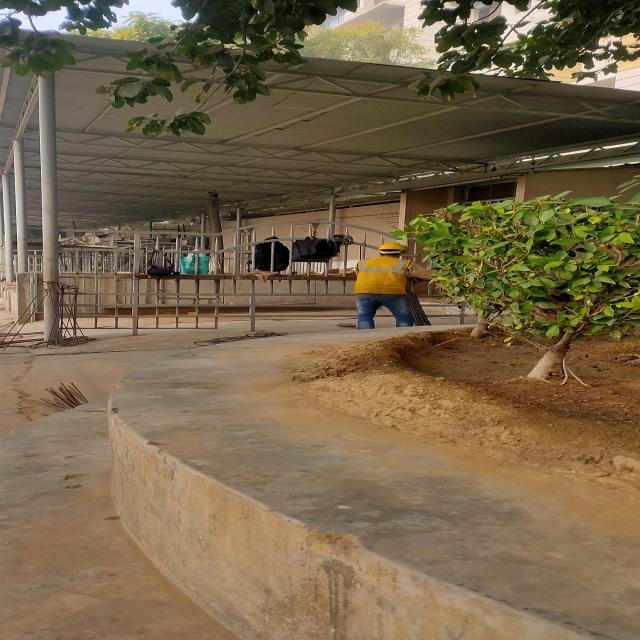safe: (349, 243, 430, 330)
